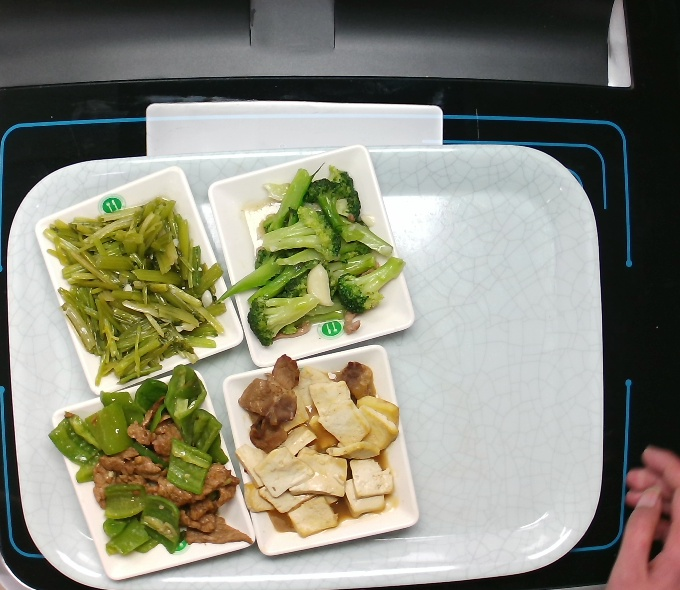wcq-DouFuRouPian: (232, 354, 416, 536)
wcq-QinCai: (62, 199, 230, 380)
wcq-QingJiaoChaoRou: (41, 375, 252, 558)
wcq-XiLanHua: (222, 167, 411, 342)
